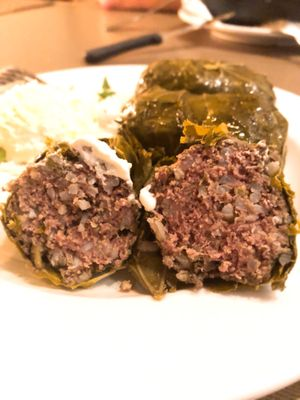sushi: (108, 56, 296, 294)
